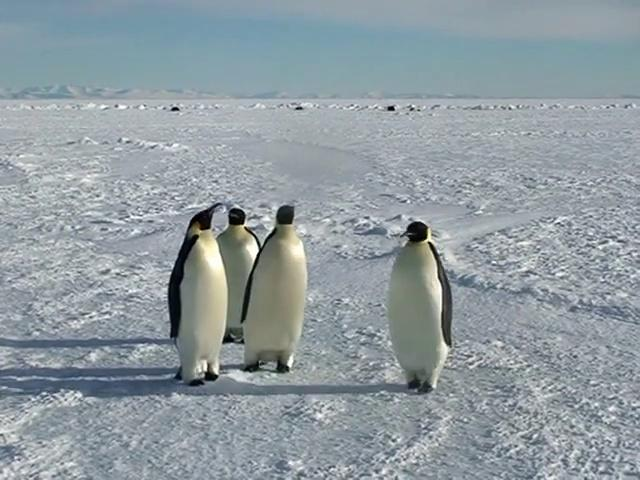animal: (388, 221, 451, 391)
